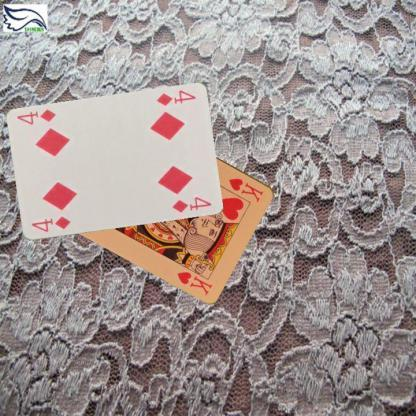4d: (29, 214, 71, 234), (154, 88, 196, 108)
Kh: (226, 174, 266, 204)
